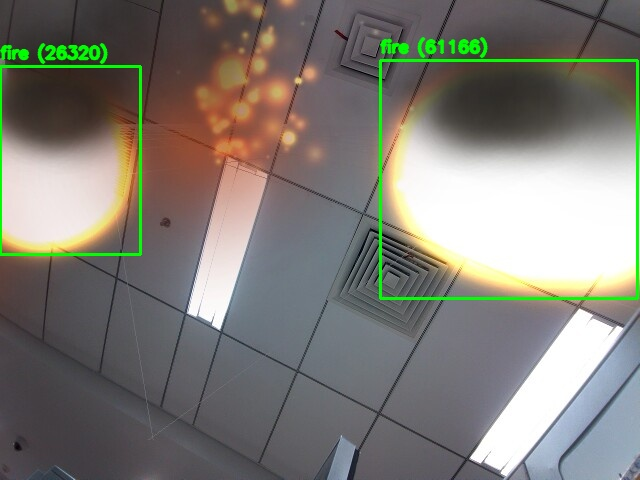fire: (380, 60, 637, 298), (0, 66, 140, 254)
